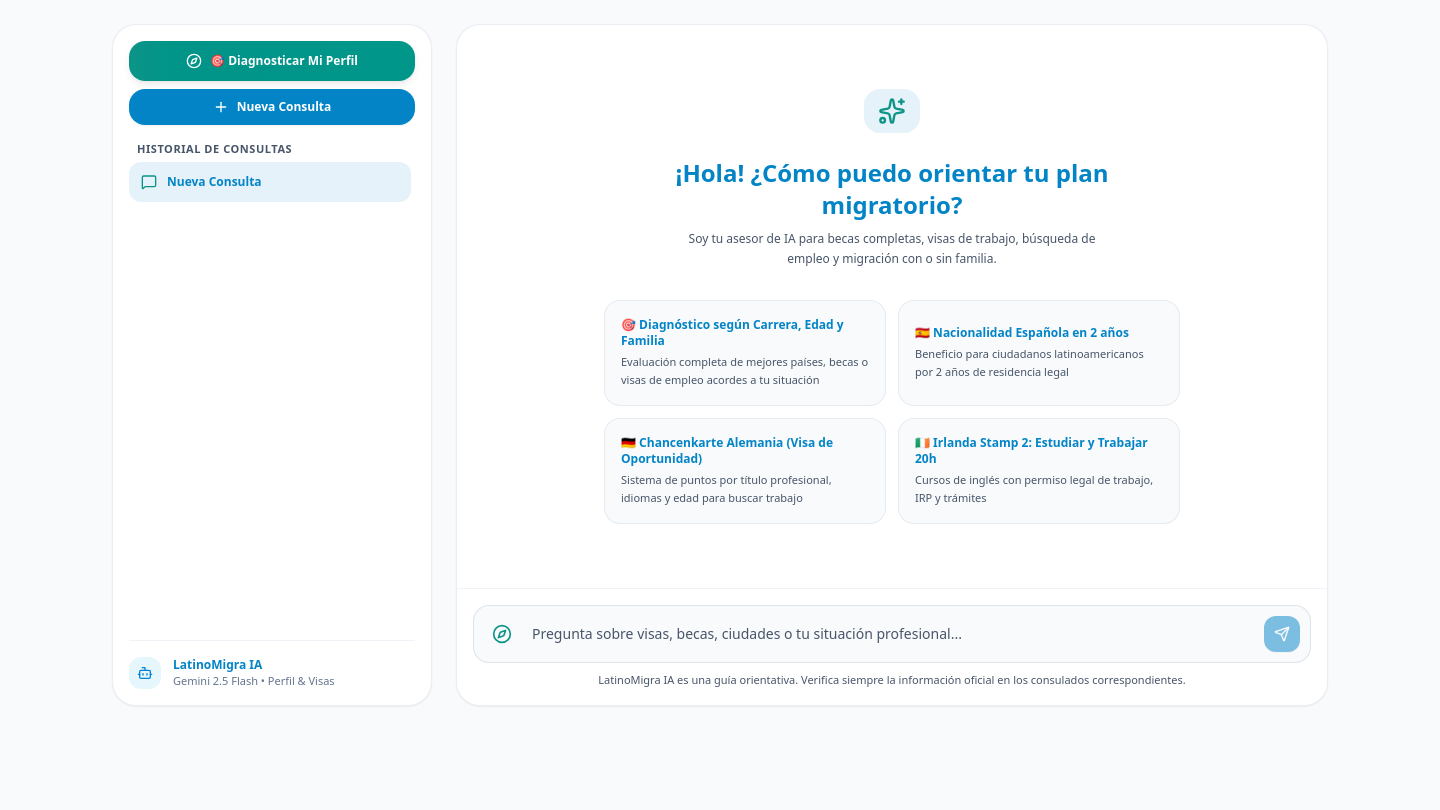
Both chat surfaces › attributes no sources the answer did not carry
Replace the text in the field with placeholder "Pregunta sobre visas, becas, ciudades" with "Una pregunta": x=892, y=634 532,624 -> 1252,644
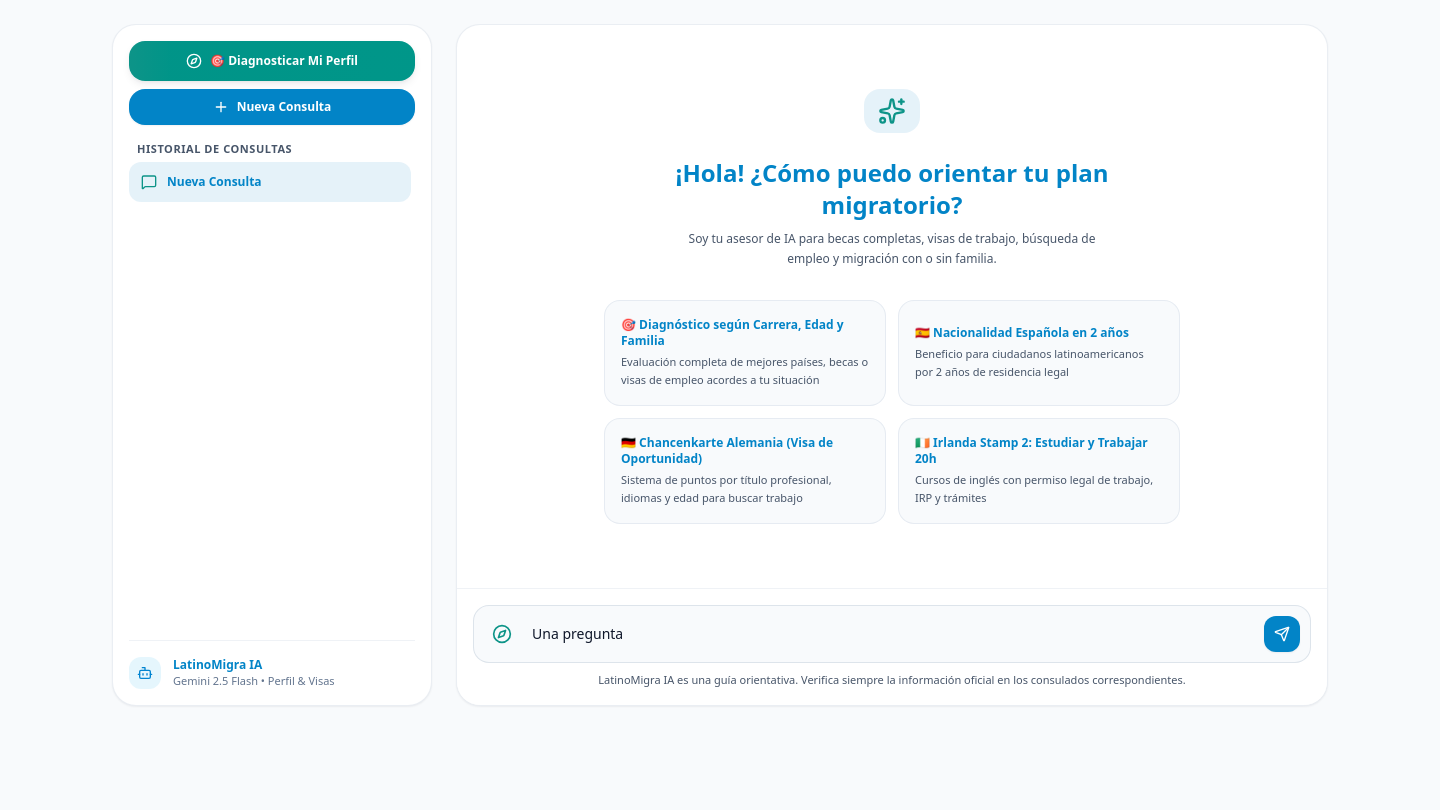
Submit the form with placeholder "Pregunta sobre visas, becas, ciudades", box 473,605 -> 1311,663
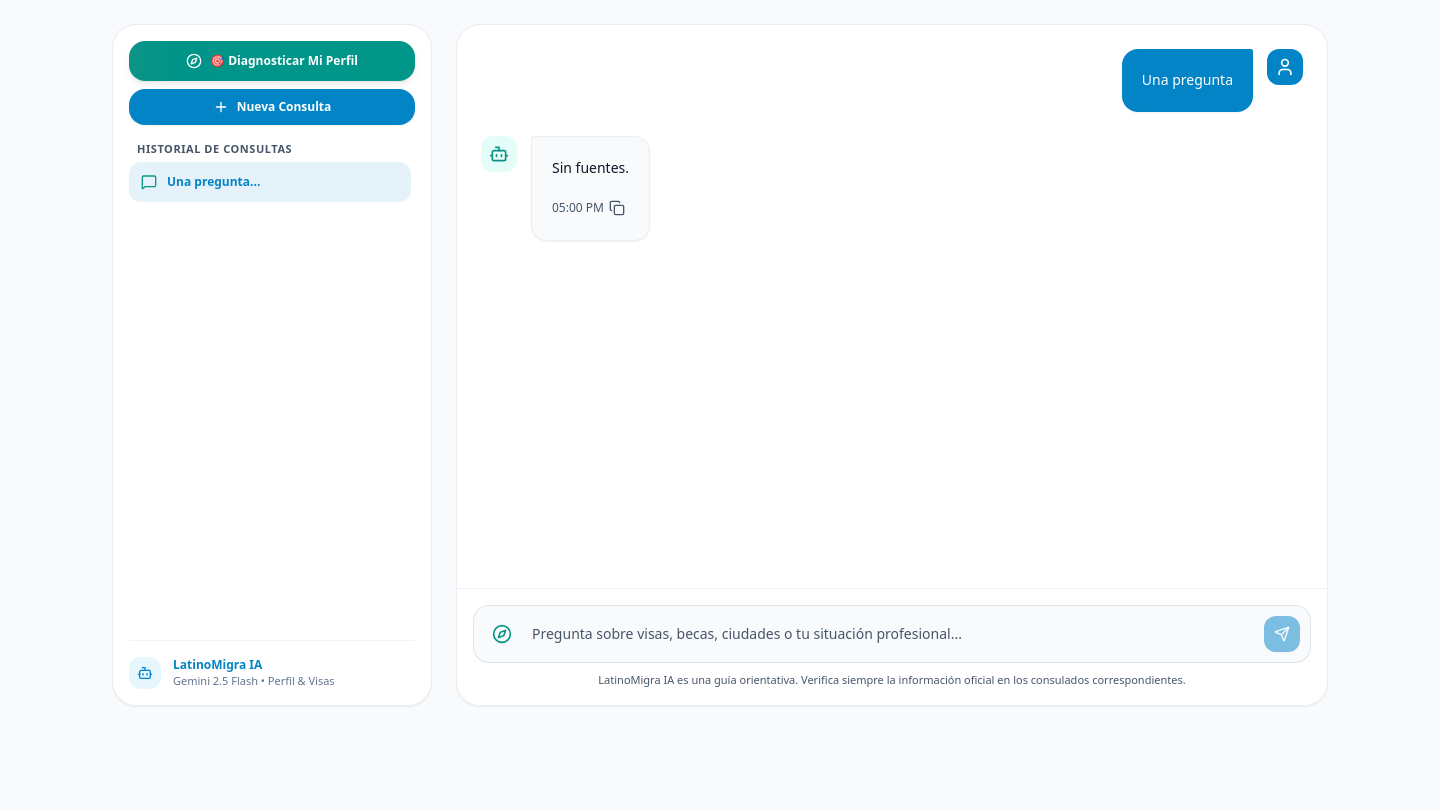
Expected: the text "Sin fuentes." is shown, 552,157 -> 629,180
